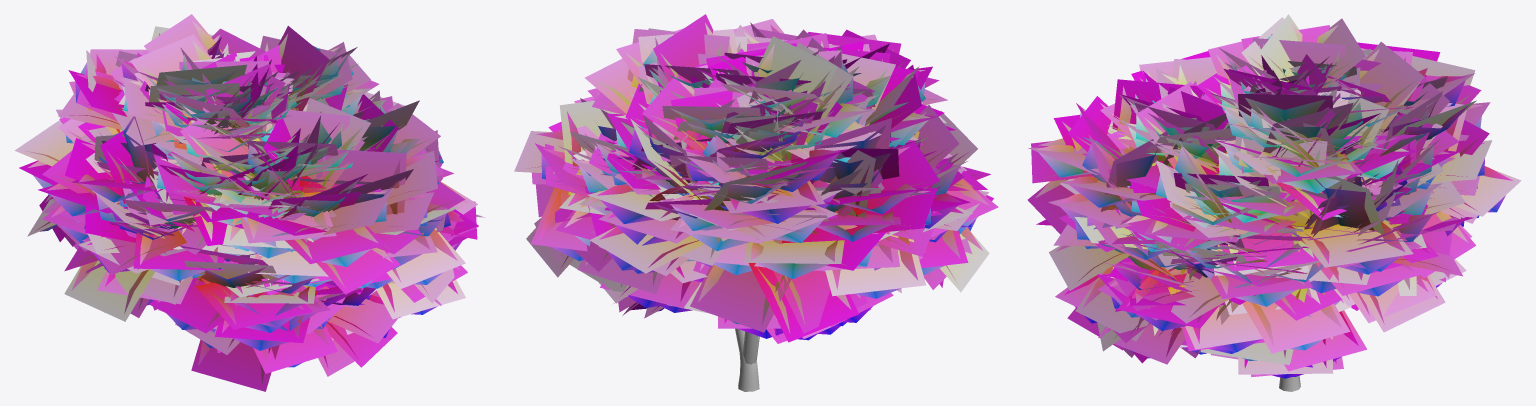
Rendered from oak_02_2.fbx.
3 renders of one model, left to right at view 1: azimuth 30°, elevation 25°; view 2: azimuth 150°, elevation 25°; view 3: azimuth 270°, elevation 25°, orthographic. The views are drawn at different scales.
Visible parts, largest first — view 1: oak_leaves_02_2_shadow, oak_leaves_02_2_lod_0; view 2: oak_leaves_02_2_shadow, oak_leaves_02_2_lod_0, oak_tree_02_2_lod_0; view 3: oak_leaves_02_2_shadow, oak_leaves_02_2_lod_0.
Part boxes in pixels (bbox=[...]): oak_leaves_02_2_shadow: bbox=[15, 14, 484, 391]; oak_leaves_02_2_lod_0: bbox=[26, 21, 476, 383]; oak_leaves_02_2_shadow: bbox=[514, 14, 998, 343]; oak_leaves_02_2_lod_0: bbox=[529, 23, 989, 340]; oak_tree_02_2_lod_0: bbox=[735, 328, 759, 391]; oak_leaves_02_2_shadow: bbox=[1027, 14, 1521, 377]; oak_leaves_02_2_lod_0: bbox=[1035, 22, 1512, 378].
Size of what is drawn, in the model's own units: 24.07 by 18.6 by 25.14.
